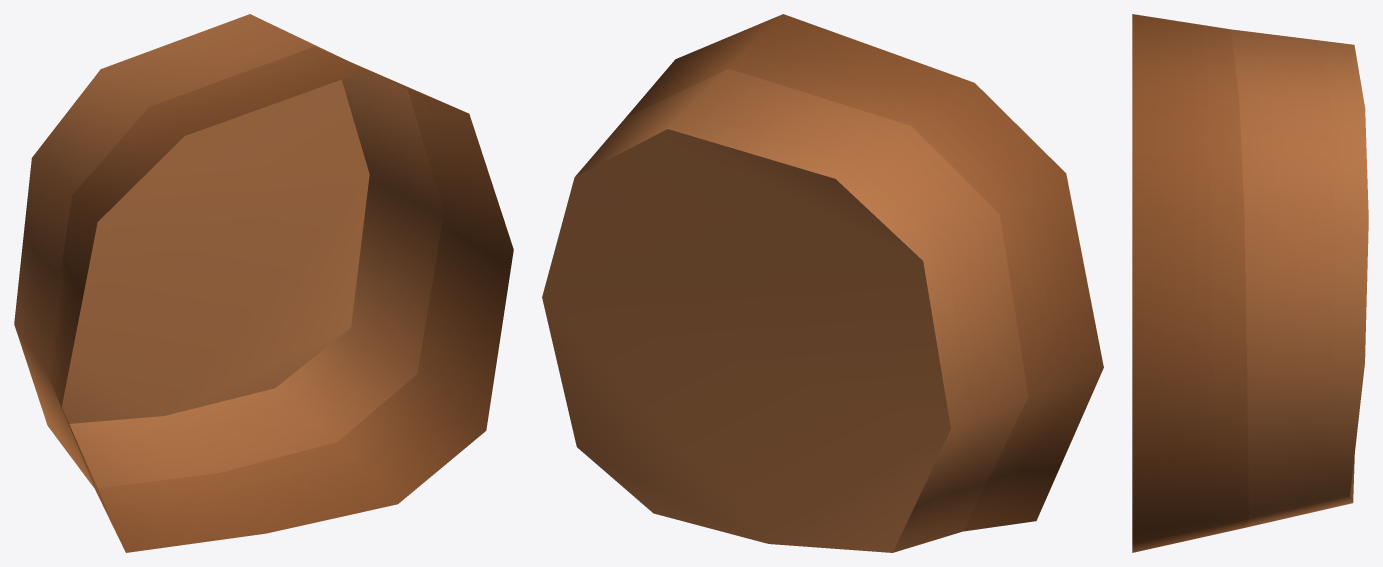
File: Rock 03.FBX
3 views of the same model, side by side, from view 1: azimuth 30°, elevation 25°; view 2: azimuth 150°, elevation 25°; view 3: azimuth 270°, elevation 25° (orthographic). The views are drawn at different scales.
Parts seen in each view (by area): view 1: Rock 03; view 2: Rock 03; view 3: Rock 03.
Boxes of the visible parts, bbox=[...] form: Rock 03: bbox=[14, 14, 513, 552]; Rock 03: bbox=[542, 14, 1103, 552]; Rock 03: bbox=[1132, 14, 1368, 552].
Size of the model in its own units: 199 by 186 by 87.93.
Materials: 1 (1 with a texture image).
